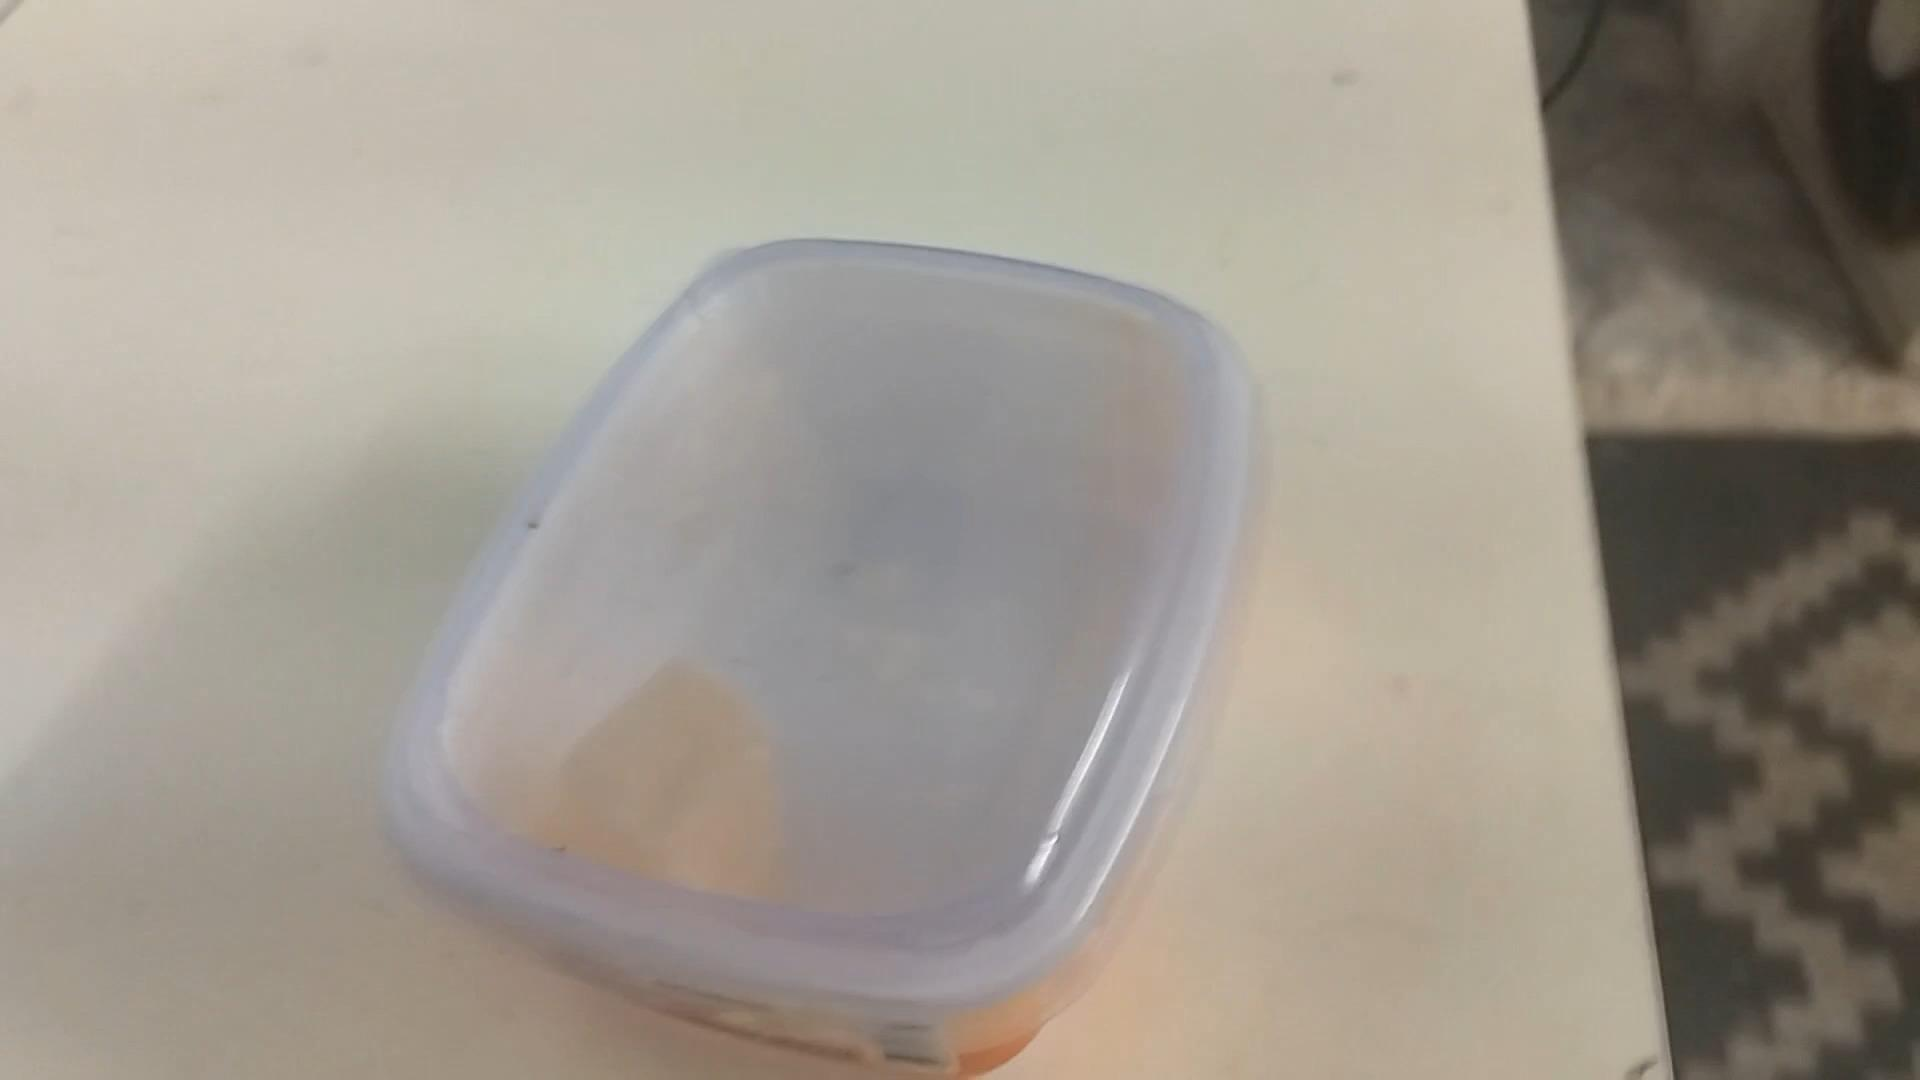butter: (365, 240, 1251, 1080)
